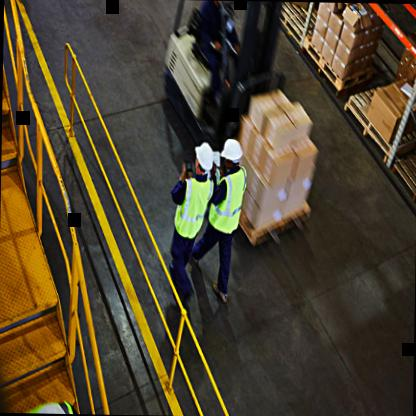helmet: (220, 135, 243, 170), (195, 142, 214, 174)
